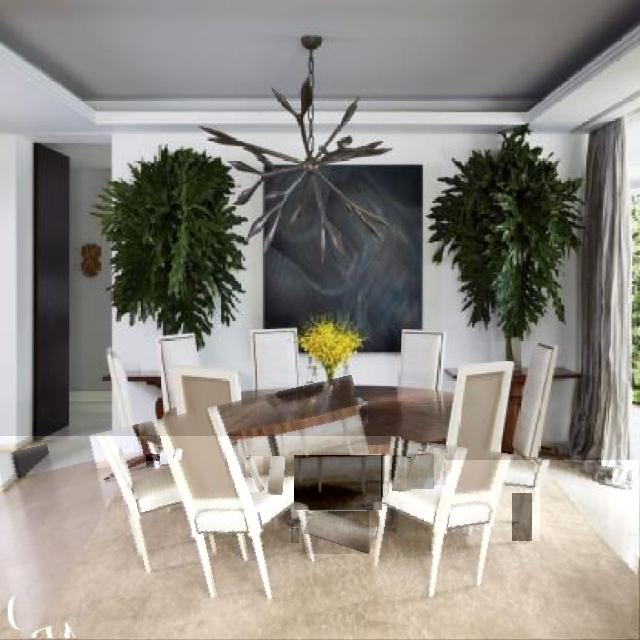floor: (0, 437, 401, 639), (369, 460, 640, 639), (294, 455, 382, 510), (302, 509, 375, 554), (521, 488, 540, 541), (407, 454, 434, 489), (512, 494, 532, 541), (393, 455, 411, 491), (269, 456, 285, 495), (247, 456, 263, 492), (434, 448, 446, 485), (384, 456, 390, 496), (292, 528, 299, 543), (146, 454, 160, 461), (175, 450, 182, 460)
